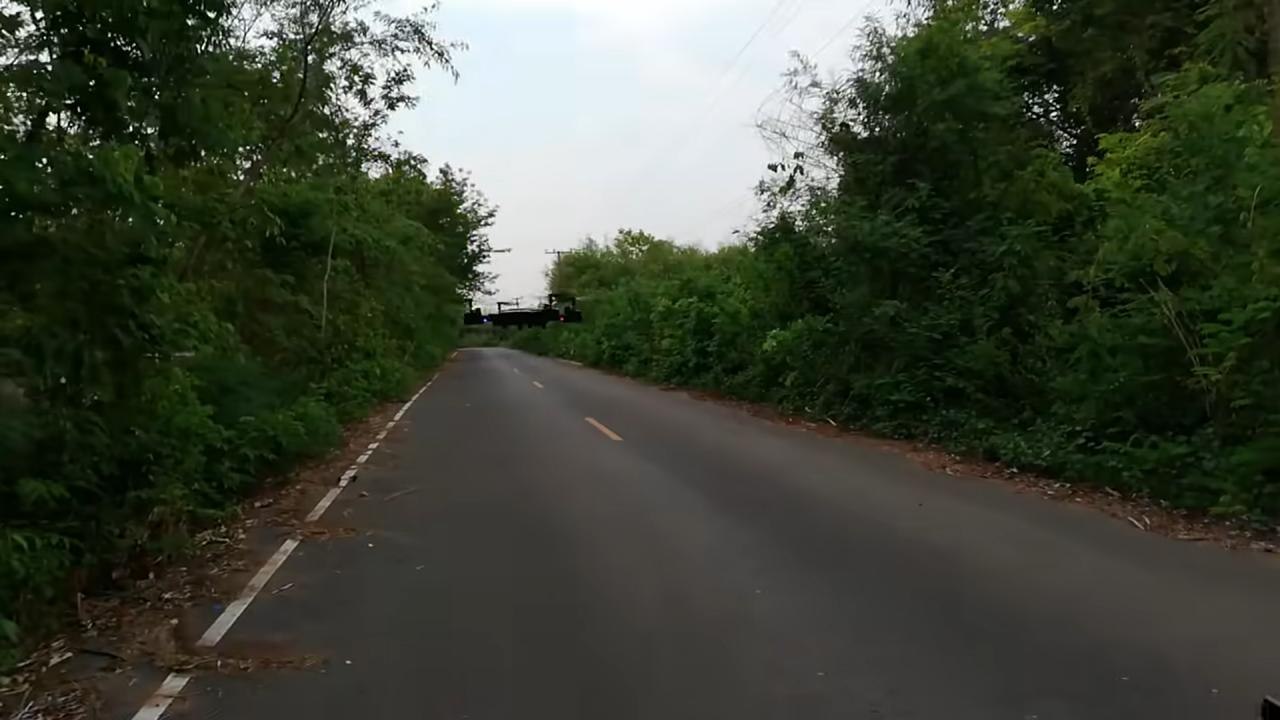Drone: (439, 285, 601, 343)
